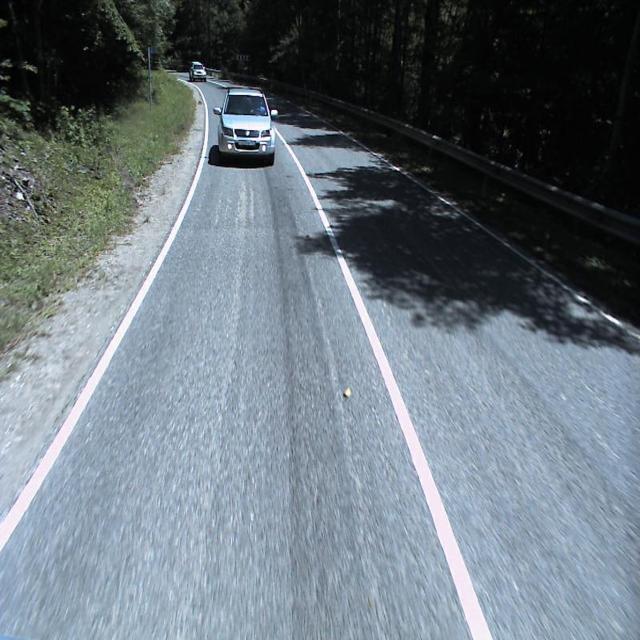road: (0, 71, 640, 639)
